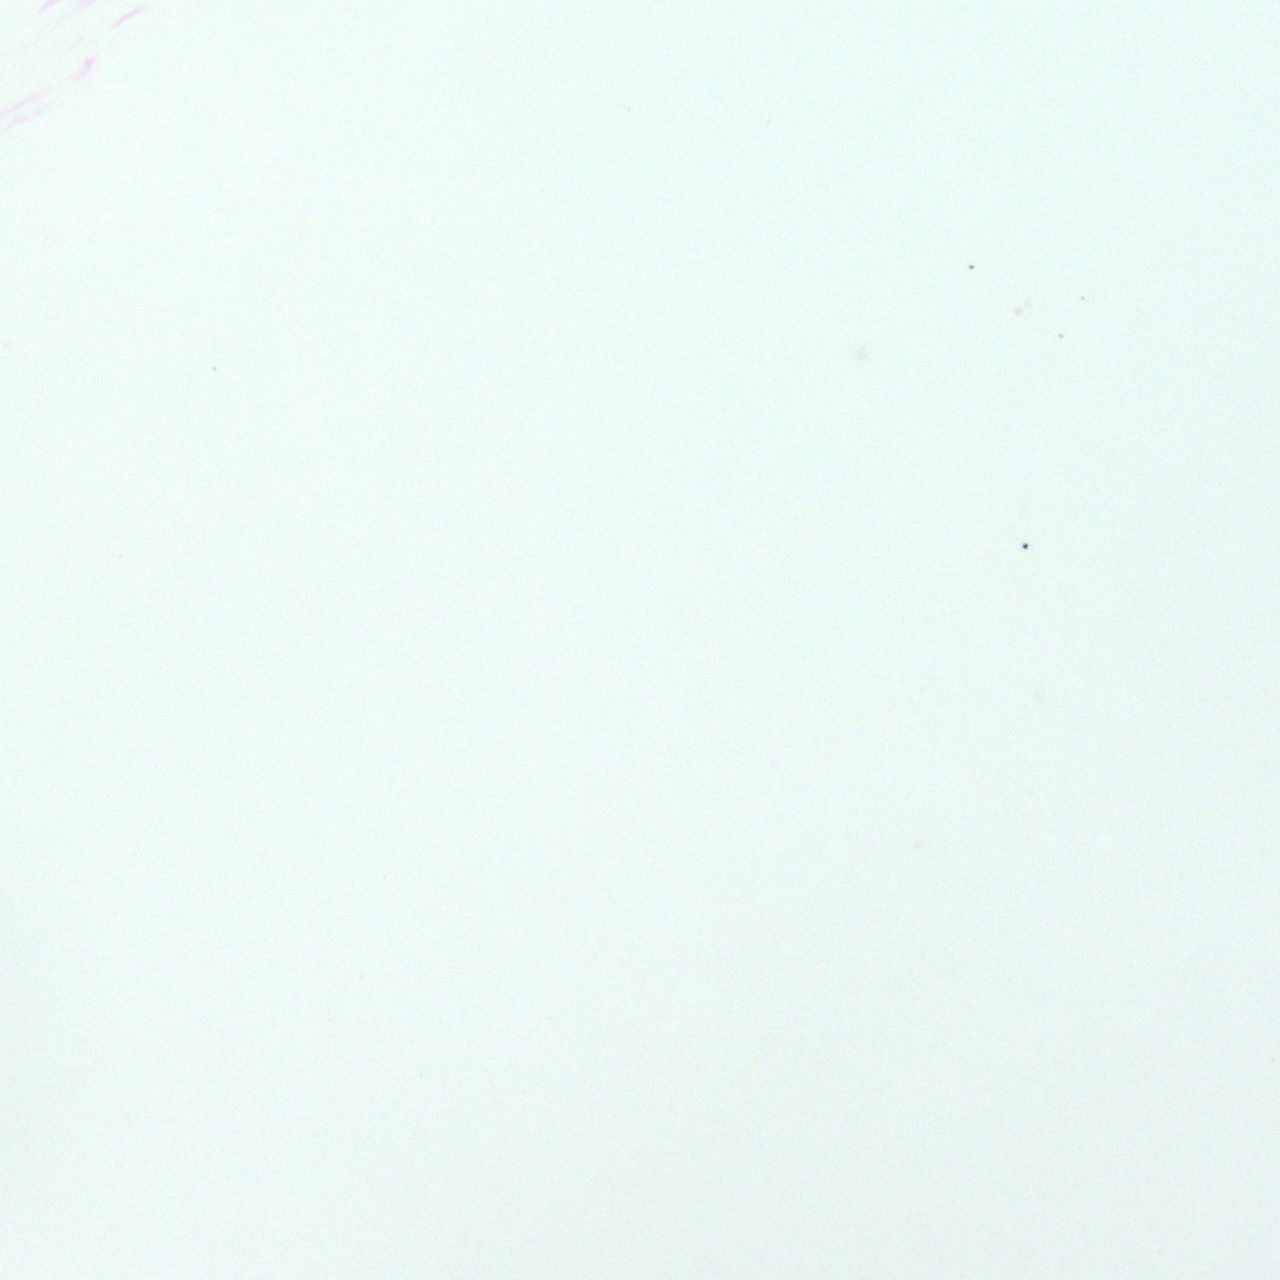dust: (1022, 543, 1029, 549), (968, 264, 974, 270), (1058, 333, 1064, 338), (1080, 295, 1084, 300)
